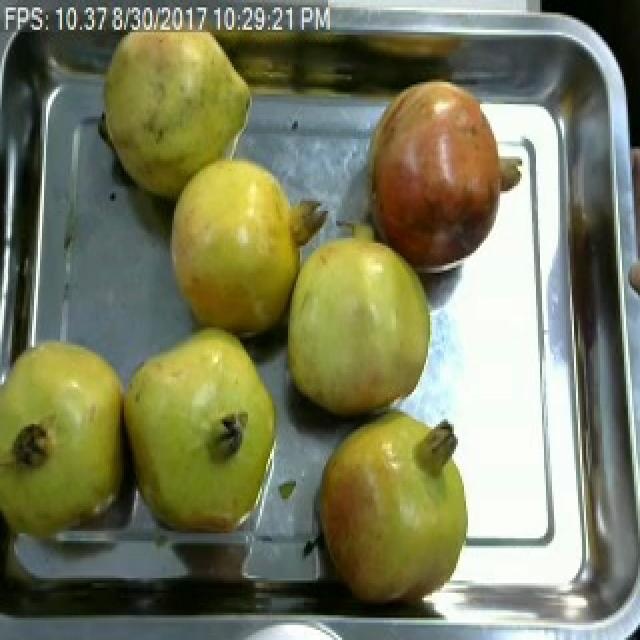fruit: (116, 313, 306, 558), (352, 57, 536, 288), (276, 208, 444, 430), (308, 400, 480, 610), (156, 141, 328, 350), (90, 5, 264, 208), (0, 320, 142, 556)
